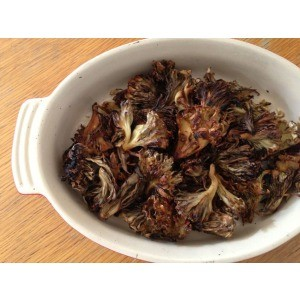mushroom_brain food: (126, 98, 252, 199)
